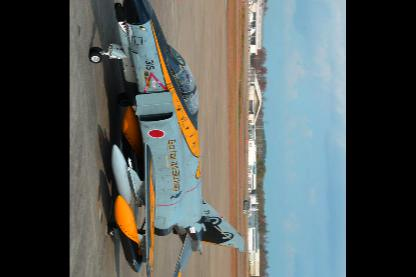F35: (89, 0, 246, 275)
